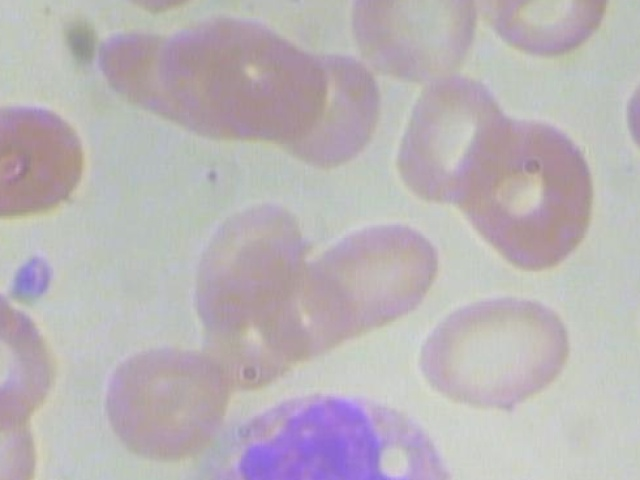Platelets: (0, 250, 66, 308)
RBC: (442, 112, 612, 274), (416, 285, 591, 422), (304, 203, 449, 350), (100, 327, 230, 466), (195, 34, 332, 155), (191, 192, 307, 333), (0, 86, 98, 225), (341, 0, 493, 86), (610, 30, 640, 167), (631, 250, 640, 381)
WBC: (168, 392, 479, 480)
